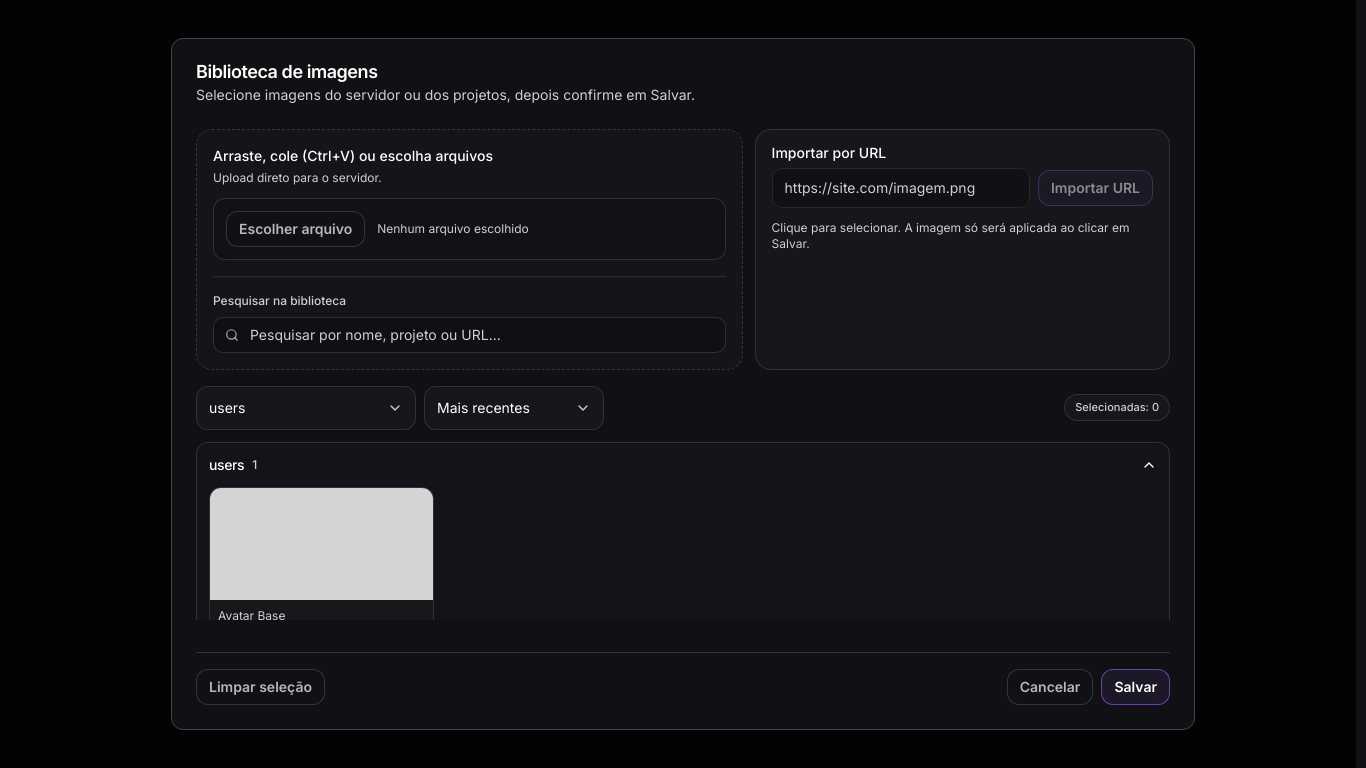
Test: ImageLibraryDialog avatar crop flow › mantem o foco do menu contextual fora de ancestrais aria-hidden
The width and height of the screenshot is (1366, 768).
Right-click the button "Avatar Base" at (322, 560), box [209,487,434,633]
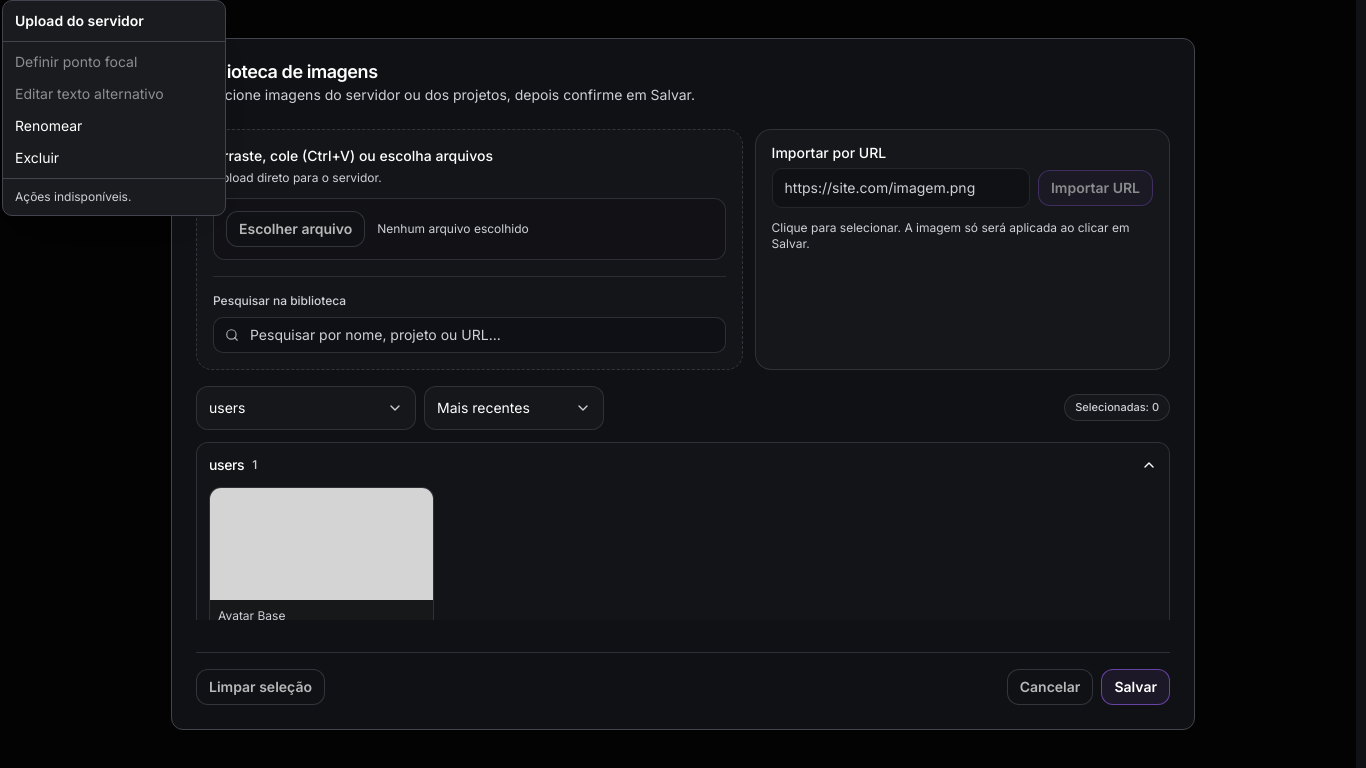
Now the menu item "Definir ponto focal" is shown, box [15,53,137,70]
Now the menu is shown, box [2,0,226,216]
